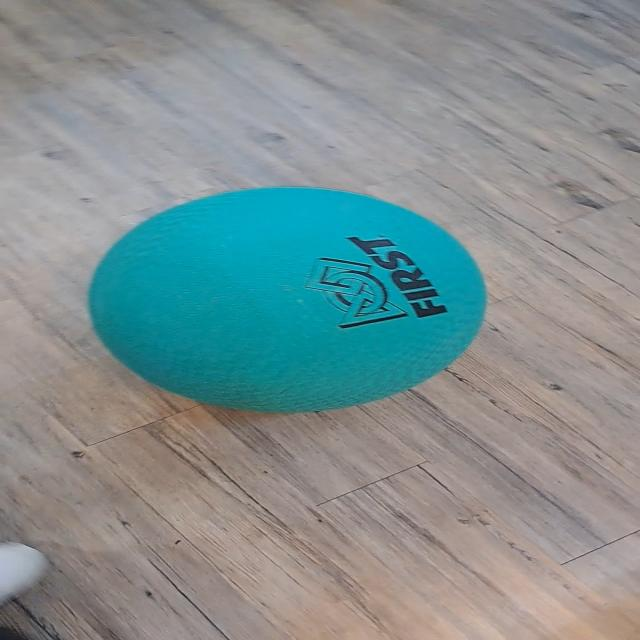ALGAE: (85, 184, 488, 414)
